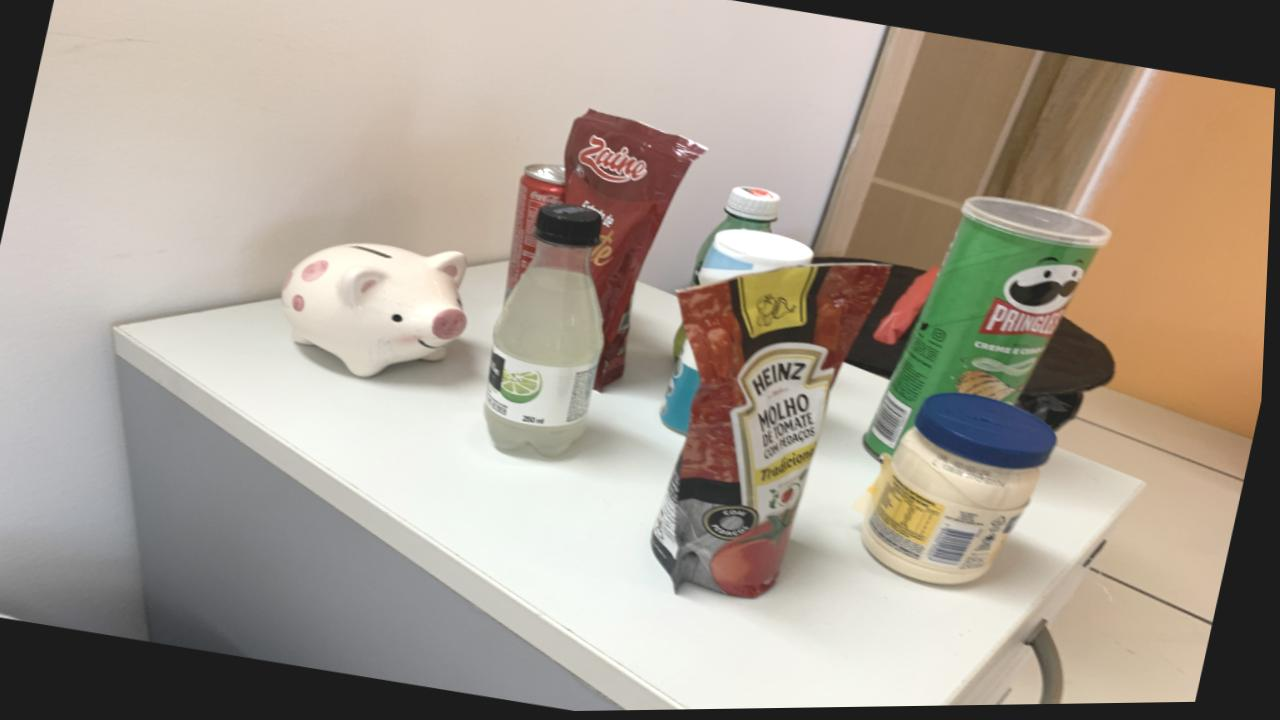Cleaner-Cleanup_Items: (697, 230, 815, 287), (664, 342, 704, 436)
Coke-Drinks: (507, 165, 567, 298)
Guarana-Drinks: (692, 188, 783, 287), (675, 329, 689, 363)
Mayonnaise-Pantry_Items: (866, 395, 1060, 588)
Pig_Safe-Miscellaneous: (283, 244, 470, 378)
Pringles-Snacks: (869, 198, 1111, 458)
Soda-Drinks: (487, 204, 607, 459)
Tomato_Sauce-Pantry_Items: (655, 265, 890, 601), (564, 111, 708, 392)
